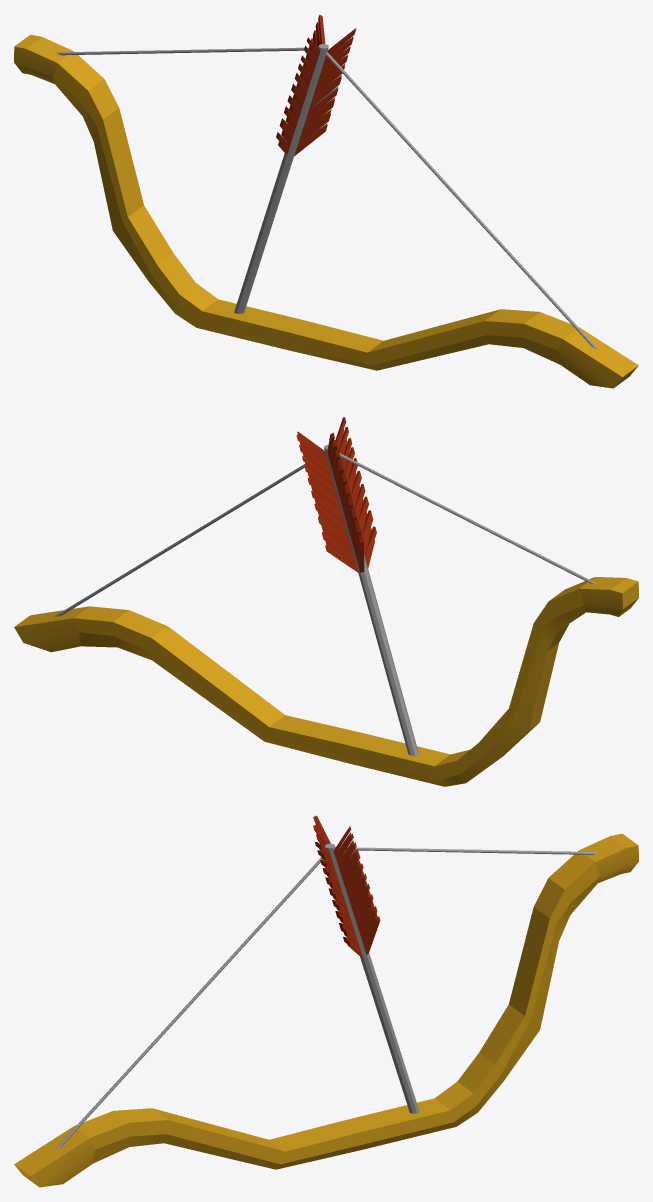
The model's file is Arrow.obj.
3 renders of one model, top to bottom at view 1: azimuth 30°, elevation 25°; view 2: azimuth 210°, elevation 25°; view 3: azimuth 270°, elevation 25°, orthographic.
Visible parts, largest first — view 1: pPlane27 arrow, arrow pCylinder26, arrow pCylinder27, arrow pCylinder28; view 2: pPlane27 arrow, arrow pCylinder26, arrow pCylinder27, arrow pCylinder28; view 3: pPlane27 arrow, arrow pCylinder26, arrow pCylinder27, arrow pCylinder28.
Part boxes in pixels (x1=…): pPlane27 arrow: x1=14, y1=34, x2=638, y2=388; arrow pCylinder26: x1=234, y1=14, x2=356, y2=313; arrow pCylinder27: x1=325, y1=52, x2=597, y2=349; arrow pCylinder28: x1=56, y1=47, x2=318, y2=55; pPlane27 arrow: x1=14, y1=577, x2=638, y2=786; arrow pCylinder26: x1=296, y1=417, x2=418, y2=755; arrow pCylinder27: x1=55, y1=464, x2=305, y2=616; arrow pCylinder28: x1=339, y1=453, x2=596, y2=583; pPlane27 arrow: x1=14, y1=833, x2=638, y2=1187; arrow pCylinder26: x1=313, y1=815, x2=419, y2=1113; arrow pCylinder27: x1=56, y1=857, x2=322, y2=1149; arrow pCylinder28: x1=335, y1=847, x2=597, y2=854.
Bounding box in the file's own units: 37.9 × 36.31 × 62.42.
